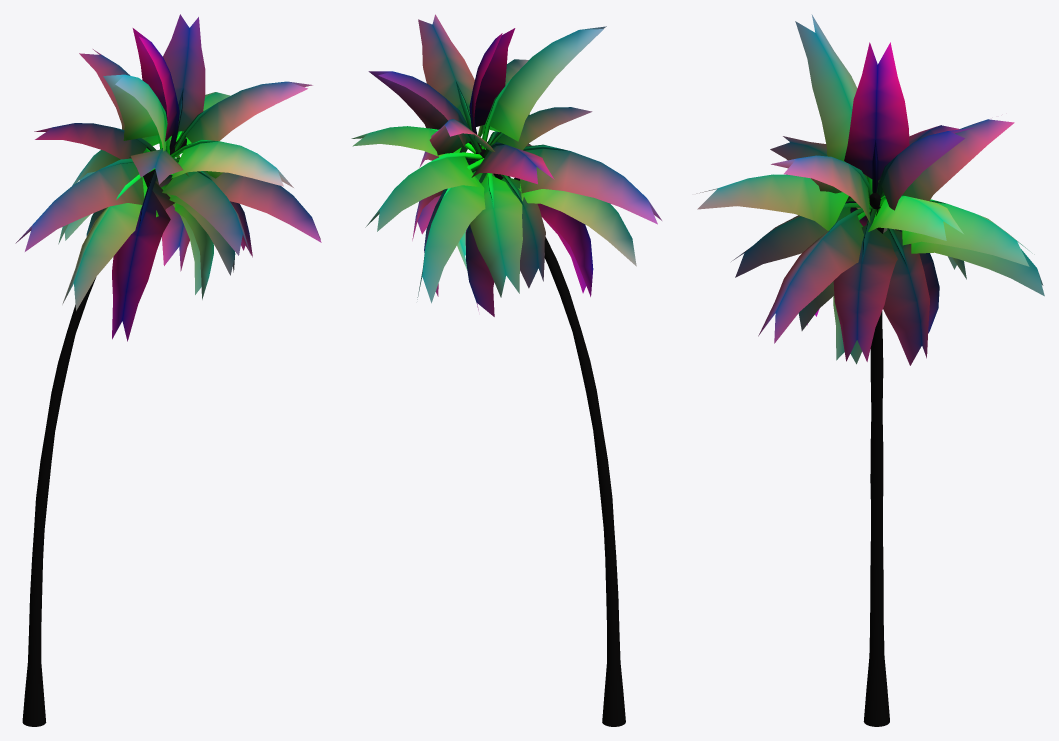
File: M_Palm_1_5.fbx
3 views of the same model, side by side, from view 1: azimuth 30°, elevation 25°; view 2: azimuth 150°, elevation 25°; view 3: azimuth 270°, elevation 25° (orthographic). The views are drawn at different scales.
Parts seen in each view (by area): view 1: Palm_1_5; view 2: Palm_1_5; view 3: Palm_1_5.
Part boxes in pixels (box(x1,y1,x2,y2)): Palm_1_5: box(15, 14, 321, 726); Palm_1_5: box(351, 14, 661, 726); Palm_1_5: box(696, 14, 1044, 726).
Size of the model in its own units: 539 by 1258 by 548.
